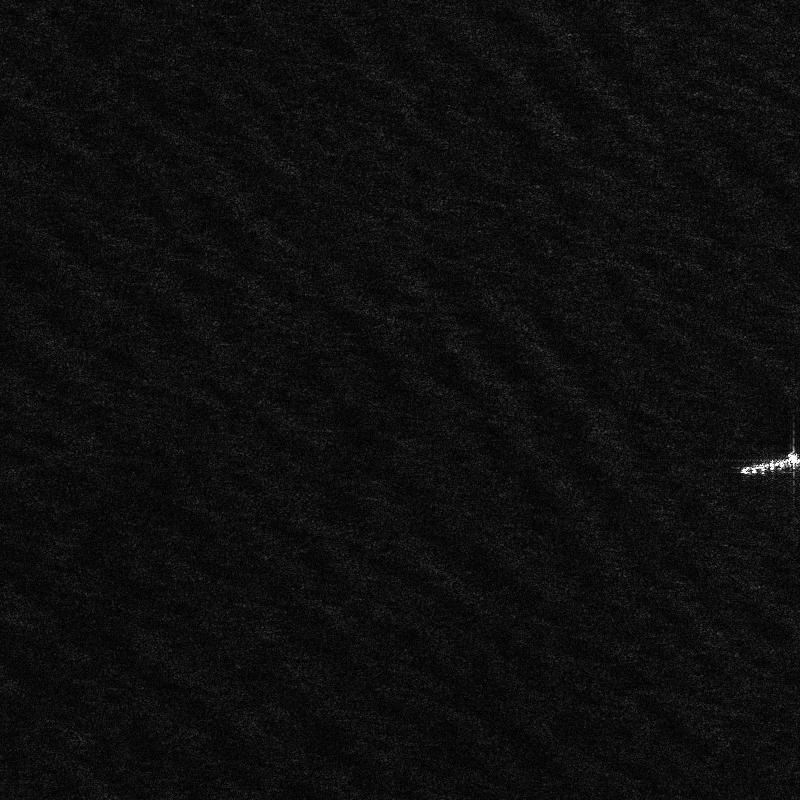ship: (740, 452, 799, 475)
